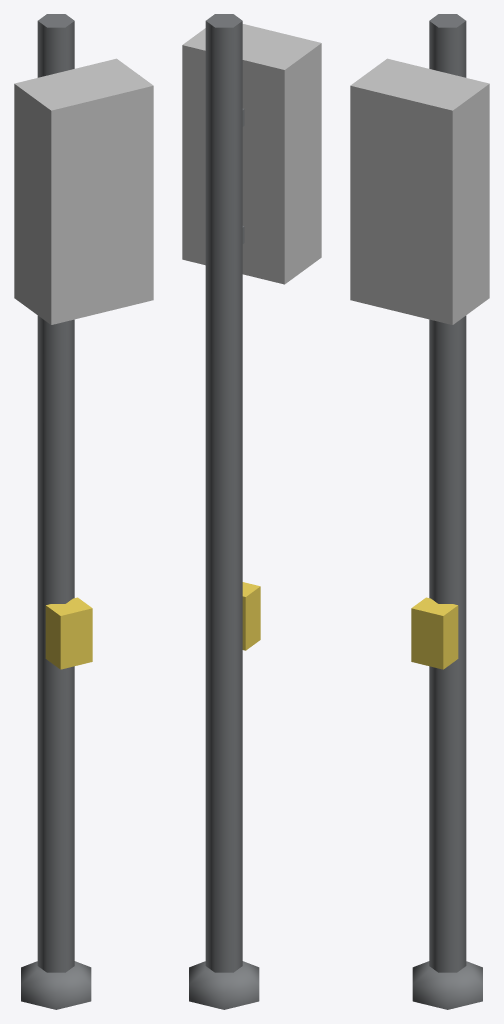
File: traffic_light_ped_lod1.glb
The picture shows the model from 3 angles, left to right: view 1: azimuth 30°, elevation 25°; view 2: azimuth 150°, elevation 25°; view 3: azimuth 330°, elevation 25°; orthographic projection.
Visible parts, largest first — view 1: traffic_light_ped_lod1; view 2: traffic_light_ped_lod1; view 3: traffic_light_ped_lod1.
Part boxes in pixels (box(x1,y1,x2,y2)): traffic_light_ped_lod1: box(14, 14, 153, 1009); traffic_light_ped_lod1: box(182, 14, 321, 1009); traffic_light_ped_lod1: box(350, 14, 489, 1009).
Size of the model in its own units: 0.32 by 2.9 by 0.3458.
